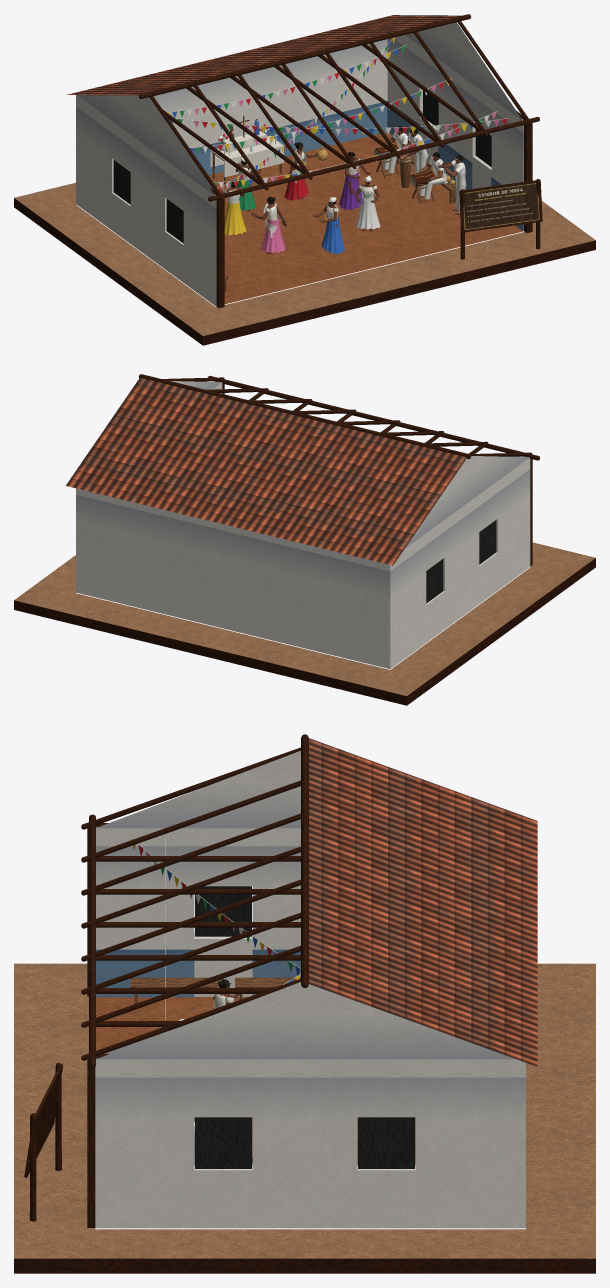
The model's file is terreiro-mina.glb.
3 views of the same model, one above another, from view 1: azimuth 30°, elevation 25°; view 2: azimuth 150°, elevation 25°; view 3: azimuth 270°, elevation 25° (orthographic). The views are drawn at different scales.
Parts seen in each view (by area): view 1: Salao_guma, Bandeirolas, Placa_Tambor_de_Mina, Mesa_com_imagens, Abatas_tambor_da_mata, Dancante_2, Dancante_7, Dancante_1, Dancante_6, Dancante_3, Dancante_5, Abatazeiro_2 (+4 smaller); view 2: Salao_guma; view 3: Salao_guma, Placa_Tambor_de_Mina, Bancos_e_cadeira, Bandeirolas.
Boxes of the visible parts, x1,y1,x2,y2 form: Salao_guma: (14, 14, 595, 345); Bandeirolas: (167, 37, 508, 191); Placa_Tambor_de_Mina: (459, 179, 542, 259); Mesa_com_imagens: (210, 115, 283, 187); Abatas_tambor_da_mata: (316, 143, 435, 204); Dancante_2: (251, 196, 287, 253); Dancante_7: (355, 176, 380, 231); Dancante_1: (312, 197, 345, 253); Dancante_6: (339, 152, 370, 209); Dancante_3: (220, 180, 246, 235); Dancante_5: (284, 142, 317, 200); Abatazeiro_2: (416, 152, 447, 201); Salao_guma: (14, 374, 595, 705); Salao_guma: (14, 734, 595, 1273); Placa_Tambor_de_Mina: (24, 1062, 62, 1221); Bancos_e_cadeira: (130, 977, 300, 1009); Bandeirolas: (130, 837, 300, 1020).
Bounding box in the file's own units: 1 × 0.4242 × 0.8333.
Materials: 67 (45 with a texture image).
